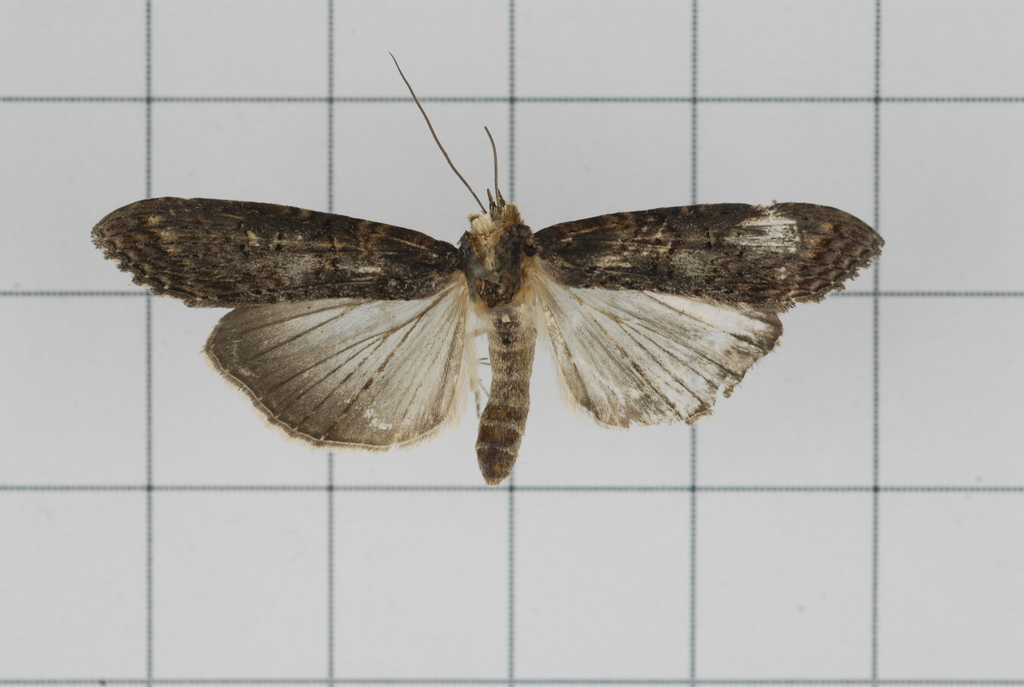Butterfly: (89, 159, 882, 491)
